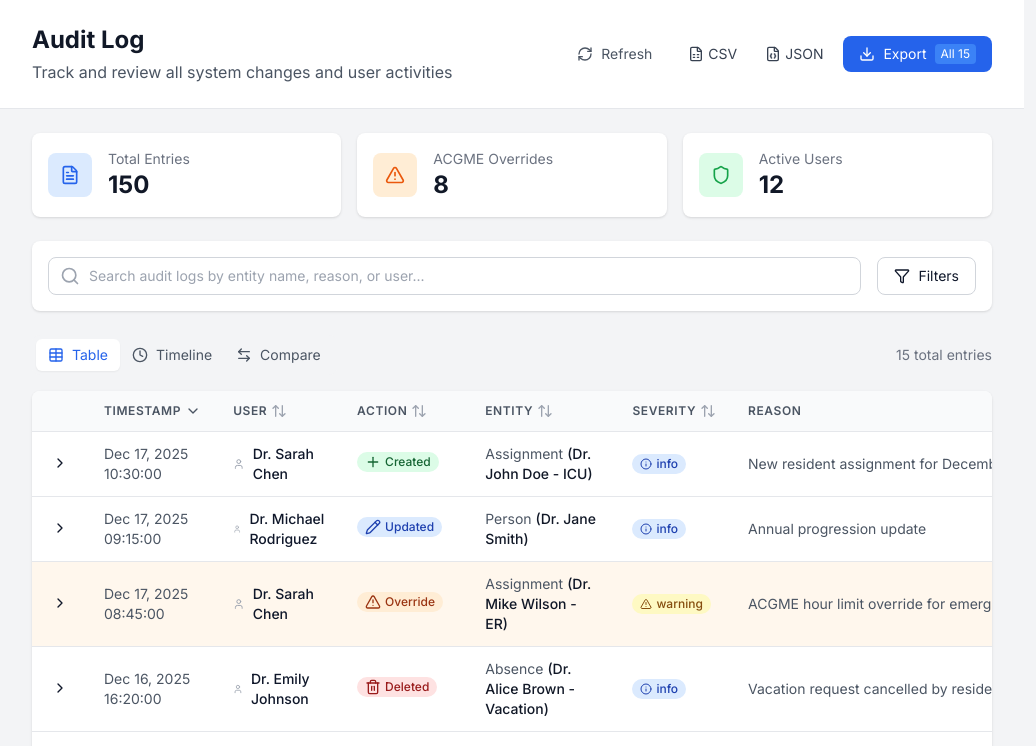
Test: AuditLogPage › View Mode › should show comparison helper panel in comparison mode
The image size is (1036, 746).
Step 1. Click the tab "Compare" → (278, 355), box [224, 339, 333, 371]
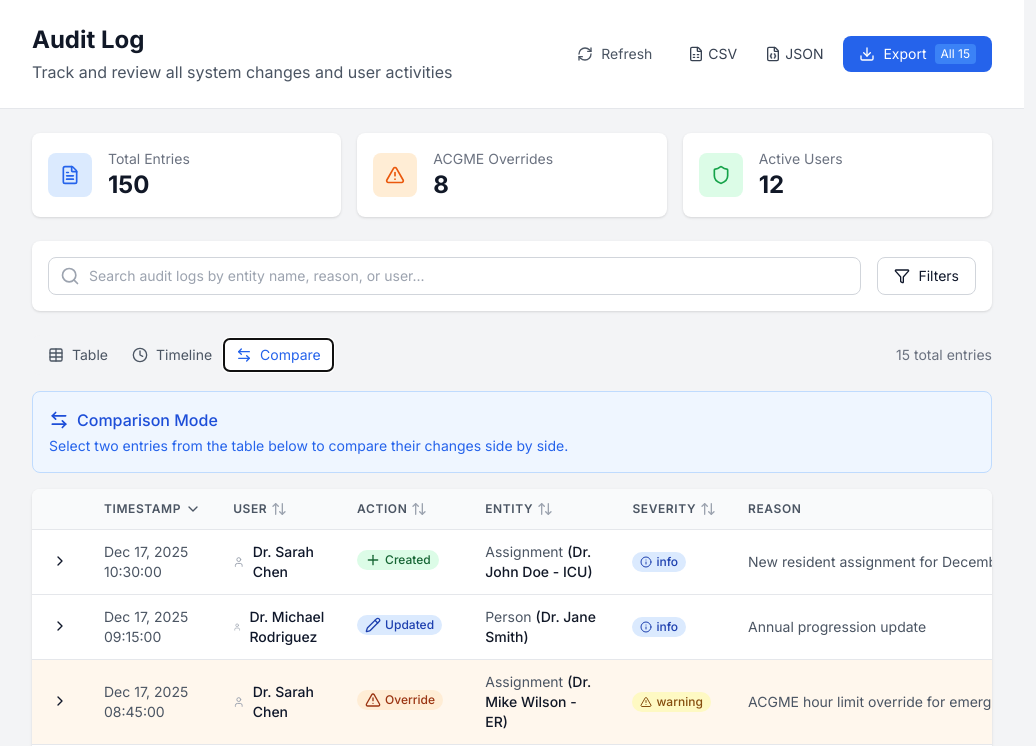
Expected: the text "Comparison Mode" is shown, [77, 408, 218, 432]
Expected: the text "Select two entries from the table" is shown, [49, 437, 568, 454]
